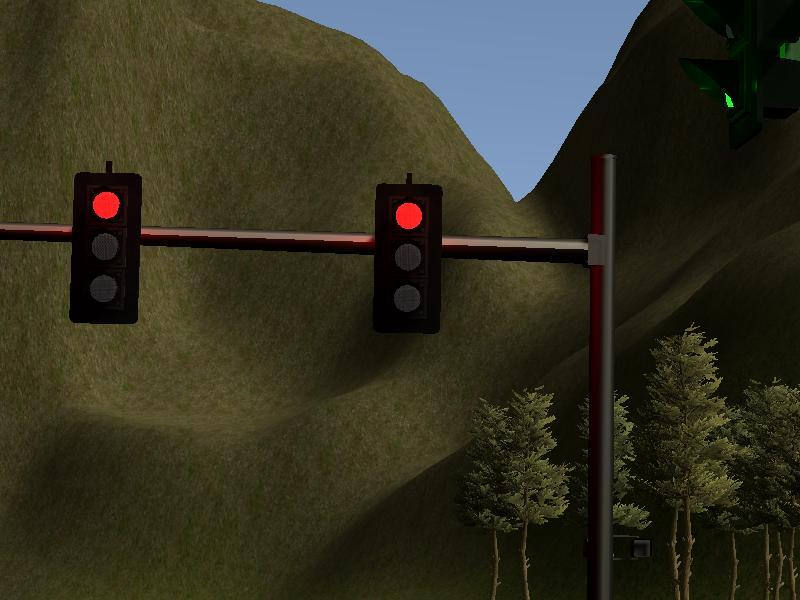Red: (70, 171, 139, 324), (375, 184, 437, 334)
